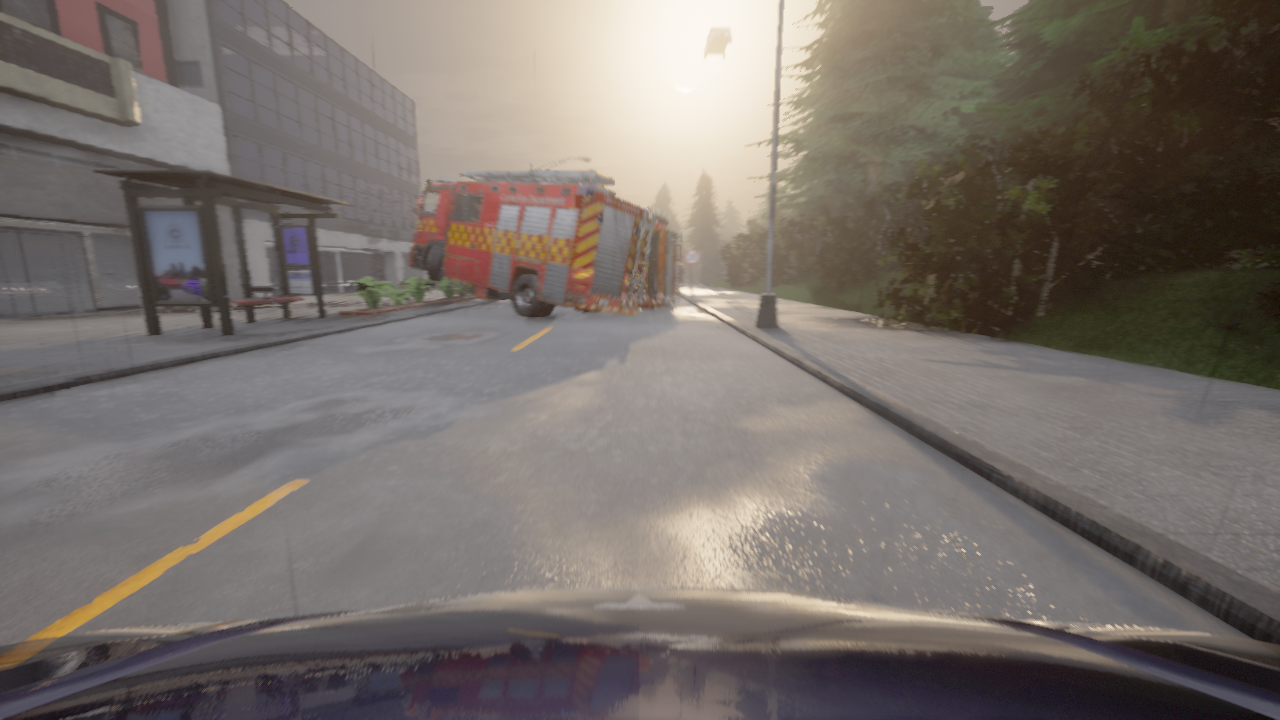cyclist: (0, 588, 1279, 719), (409, 170, 656, 317), (477, 216, 683, 309), (704, 26, 733, 59)
pedestrian: (681, 264, 686, 285)
